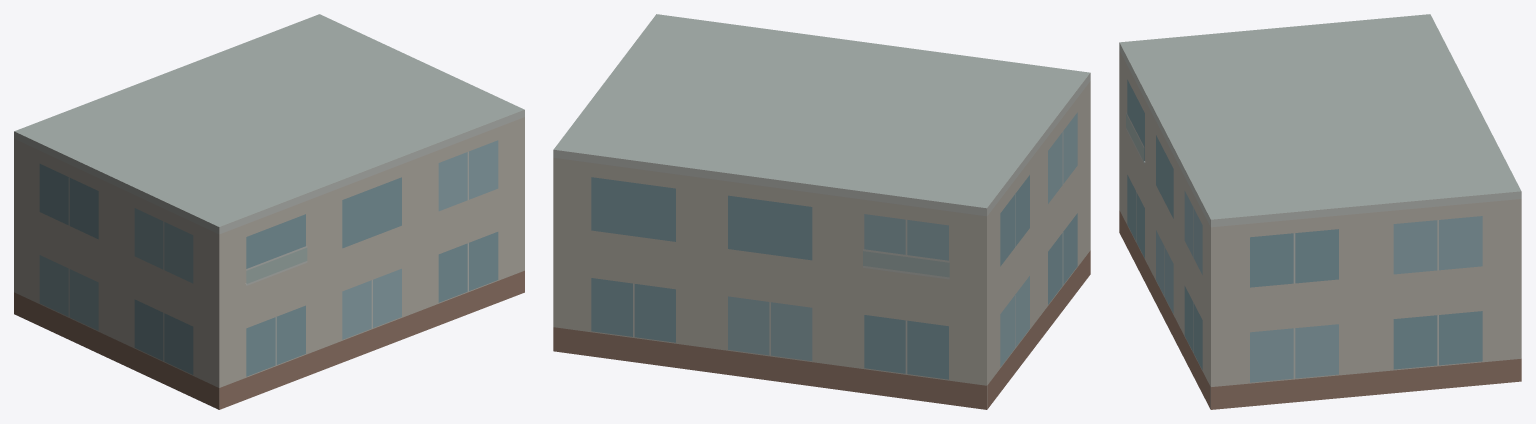
The model's file is survey-upis-32955633.glb.
3 renders of one model, left to right at view 1: azimuth 30°, elevation 25°; view 2: azimuth 150°, elevation 25°; view 3: azimuth 270°, elevation 25°, orthographic. The views are drawn at different scales.
Parts seen in each view (by area): view 1: survey-upis-32955633.tmp; view 2: survey-upis-32955633.tmp; view 3: survey-upis-32955633.tmp.
Part boxes in pixels (x1,y1,x2,y2): survey-upis-32955633.tmp: [14, 14, 524, 409]; survey-upis-32955633.tmp: [553, 14, 1090, 409]; survey-upis-32955633.tmp: [1119, 14, 1521, 409].
Size of the model in its own units: 14.17 by 6.1 by 11.71.
